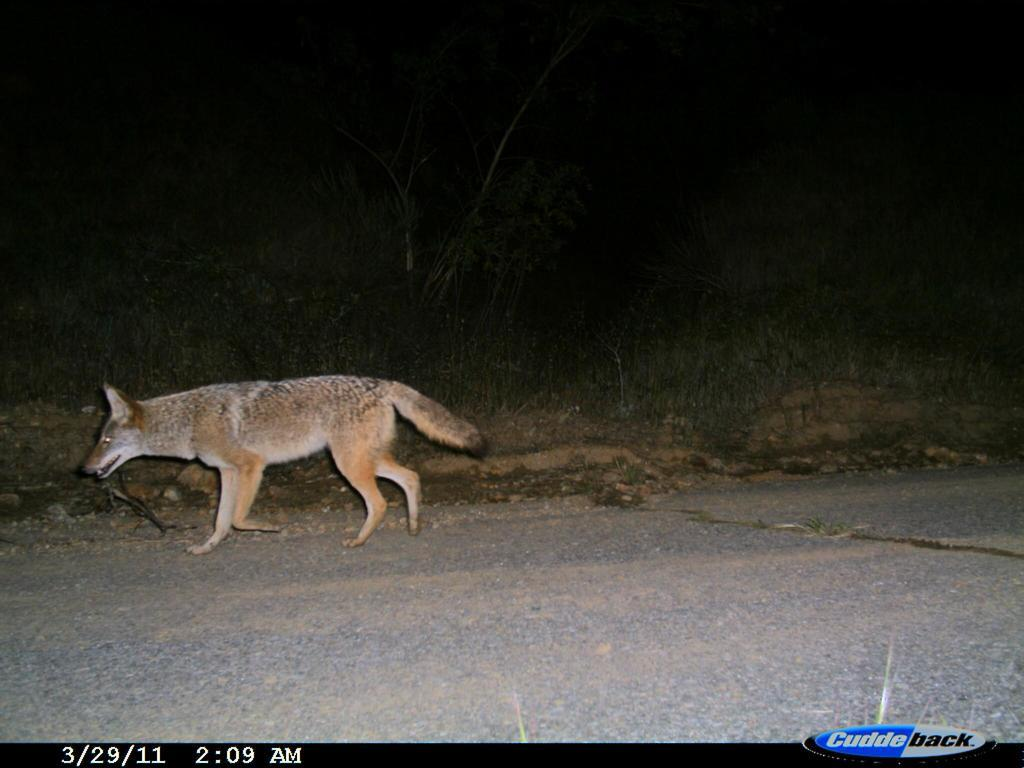coyote: (81, 378, 489, 556)
